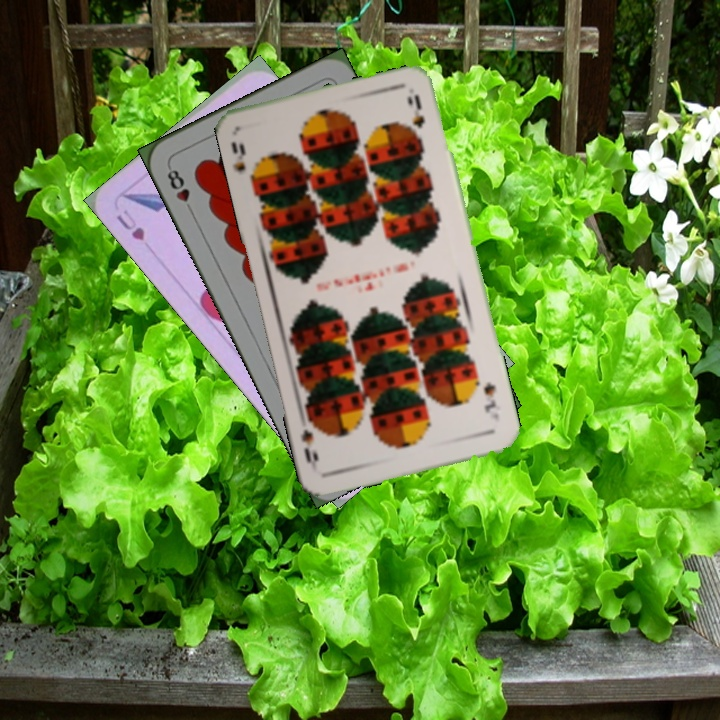H8: (163, 162, 197, 217)
HU: (112, 205, 148, 243)
S9: (227, 137, 261, 189), (480, 378, 502, 424)
